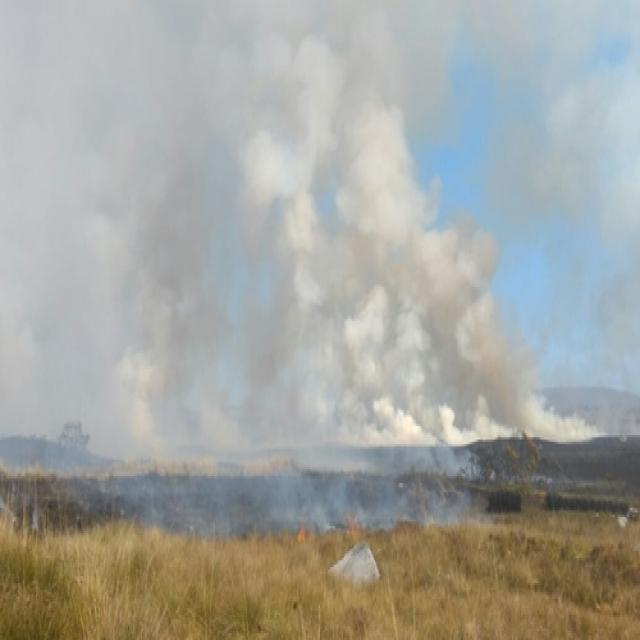Smoke: (89, 61, 501, 454)
